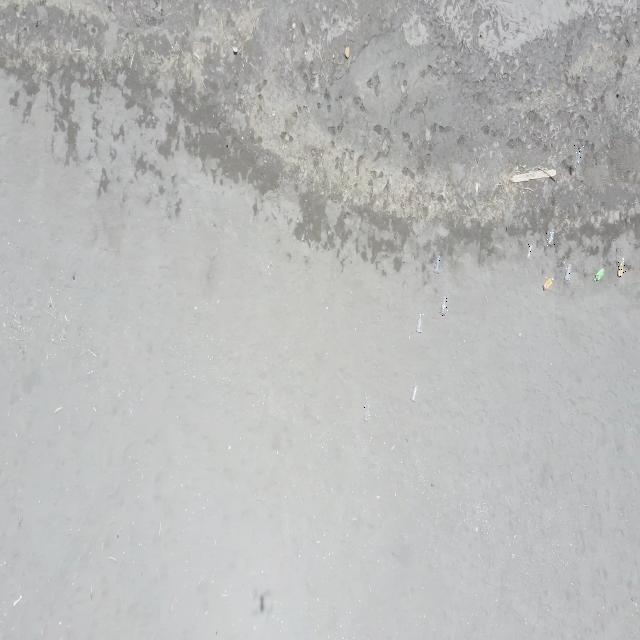plastic-bottle: (593, 268, 606, 284), (617, 257, 626, 279), (542, 277, 554, 292)
takeaway-cup: (574, 144, 584, 167), (563, 262, 572, 283), (439, 296, 448, 316), (433, 254, 441, 276), (416, 314, 424, 335), (546, 229, 555, 247), (364, 404, 372, 424), (525, 243, 533, 263), (411, 382, 418, 402)
